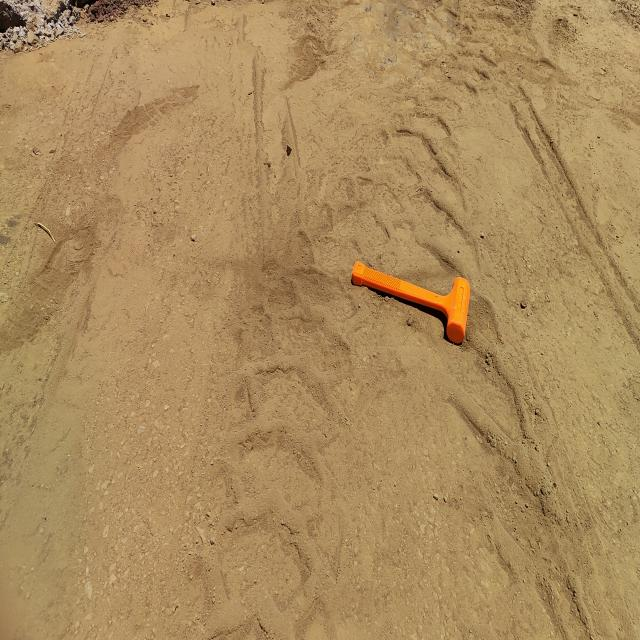Orange_hammer: (352, 258, 472, 346)
